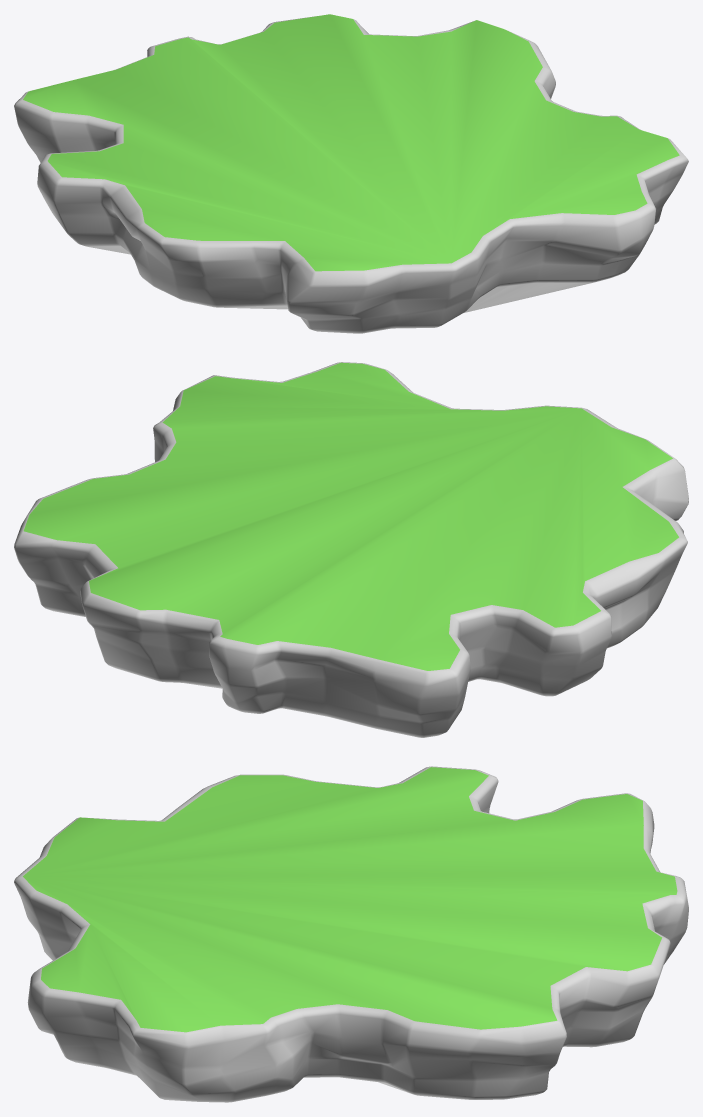
Rendered from MainTerrain_low.fbx.
3 views of the same model, one above another, from view 1: azimuth 30°, elevation 25°; view 2: azimuth 150°, elevation 25°; view 3: azimuth 270°, elevation 25° (orthographic). The views are drawn at different scales.
Parts seen in each view (by area): view 1: MainTerrain.001_Low; view 2: MainTerrain.001_Low; view 3: MainTerrain.001_Low.
Boxes of the visible parts, box(x1,y1,x2,y2) form: MainTerrain.001_Low: box(14, 14, 688, 333); MainTerrain.001_Low: box(14, 362, 688, 737); MainTerrain.001_Low: box(14, 766, 688, 1102).
Bounding box in the file's own units: 8057 × 1204 × 8387.
